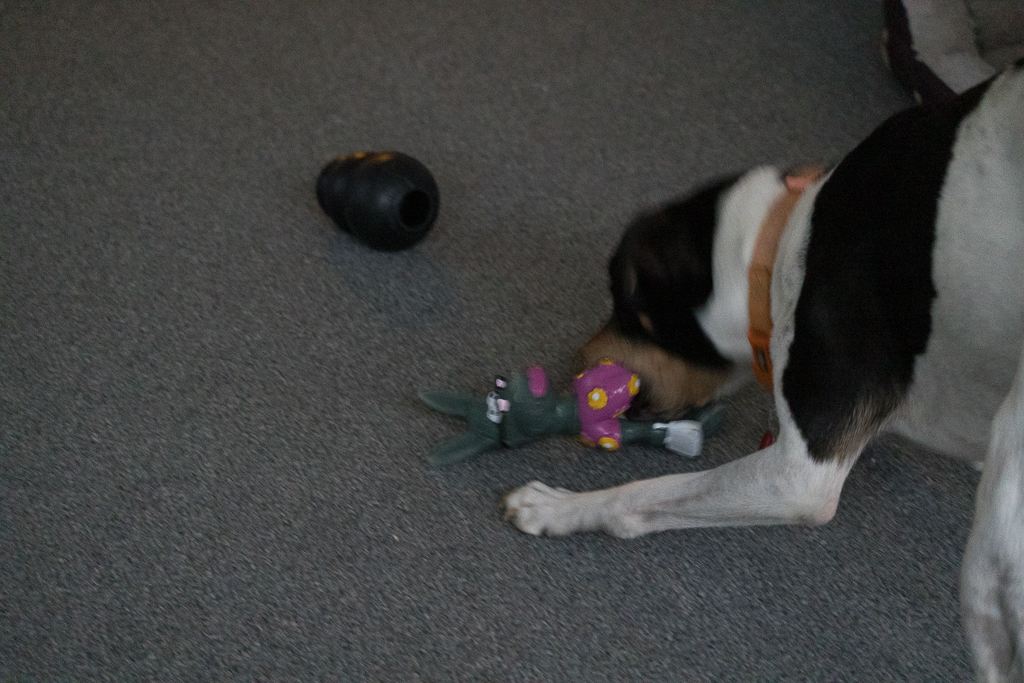Dog: (486, 43, 1024, 683)
Humanoid: (403, 337, 744, 487)
